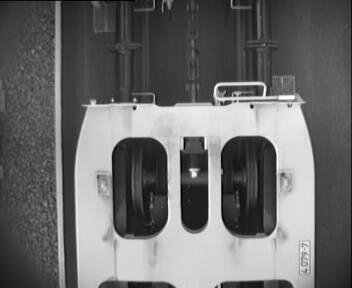wagon_scan: (106, 130, 288, 246)
